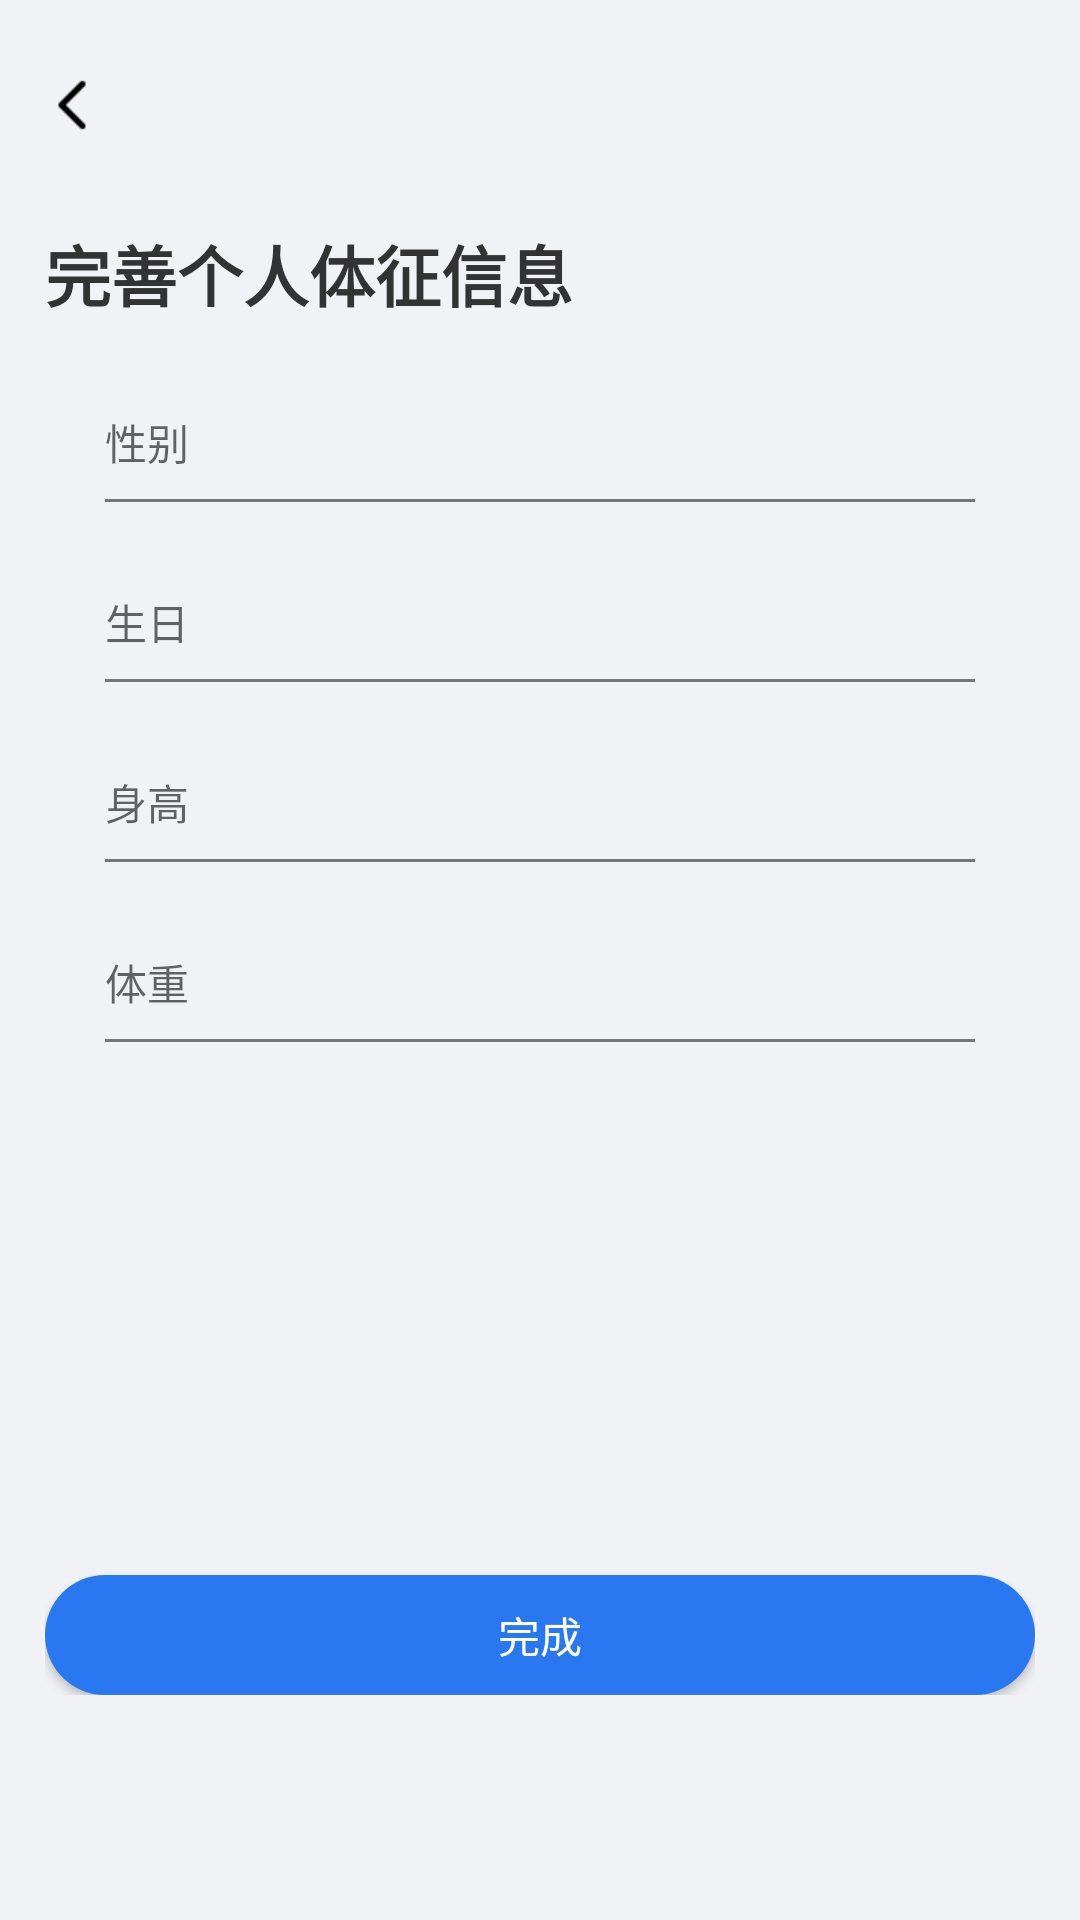

Locate icon controls on the screen. Image size 1080w x 1920h, boxes as bbox=[x1, y1, x2, y2].
back: bbox=[58, 80, 86, 130]
